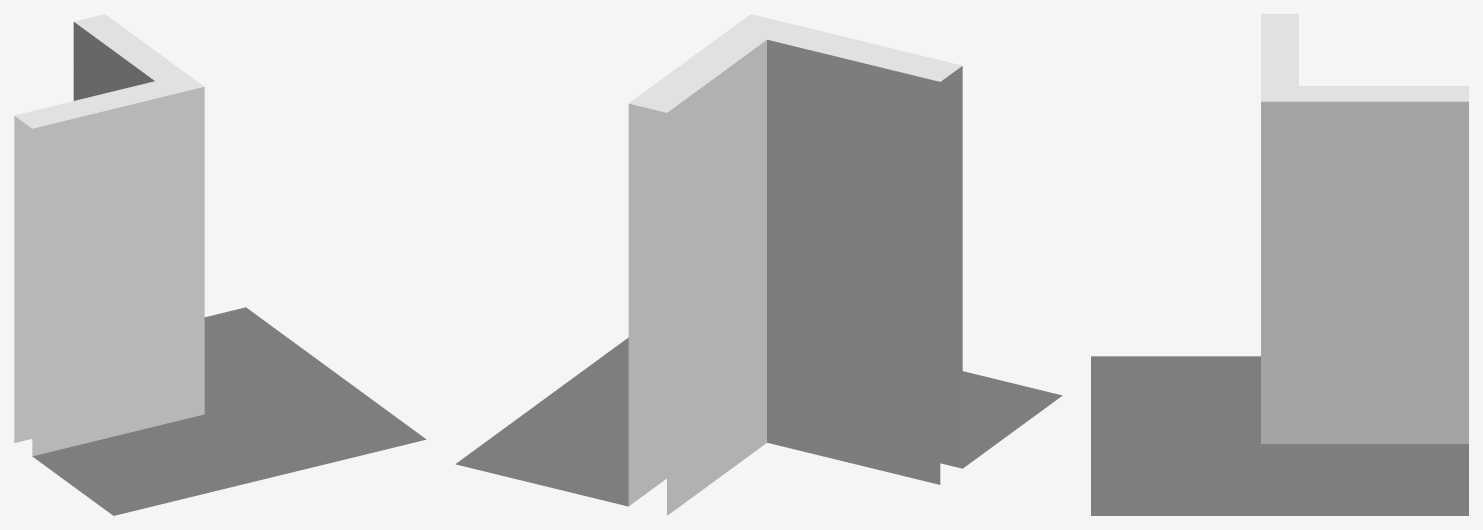
Rendered from I_Wall_L_Shape_Elevator.fbx.
The picture shows the model from 3 angles, left to right: view 1: azimuth 30°, elevation 25°; view 2: azimuth 150°, elevation 25°; view 3: azimuth 270°, elevation 25°; orthographic projection. The views are drawn at different scales.
Parts seen in each view (by area): view 1: I_Wall_L_Shape; view 2: I_Wall_L_Shape; view 3: I_Wall_L_Shape.
Boxes of the visible parts, <box> form: I_Wall_L_Shape: <box>14,14,426,515</box>; I_Wall_L_Shape: <box>455,14,1062,515</box>; I_Wall_L_Shape: <box>1091,14,1468,515</box>.
Bounding box in the file's own units: 200 × 200 × 200.
